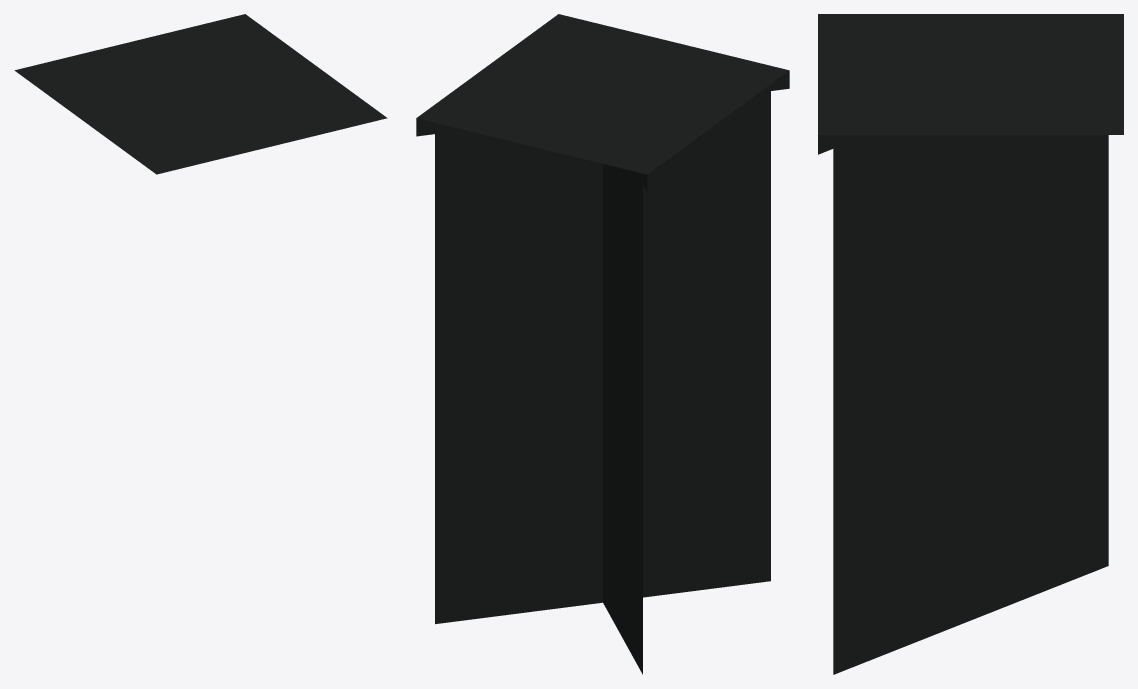
The model's file is AMB_KODATE_D4_03.glb.
3 views of the same model, side by side, from view 1: azimuth 30°, elevation 25°; view 2: azimuth 150°, elevation 25°; view 3: azimuth 270°, elevation 25° (orthographic). The views are drawn at different scales.
Visible parts, largest first — view 1: BASE; view 2: BASE; view 3: BASE.
Boxes of the visible parts, x1,y1,x2,y2 form: BASE: (14,14,387,174); BASE: (416,14,789,674); BASE: (818,14,1123,674).
Bounding box in the file's own units: 49.34 × 104 × 52.64.
1 material, 1 textured.
